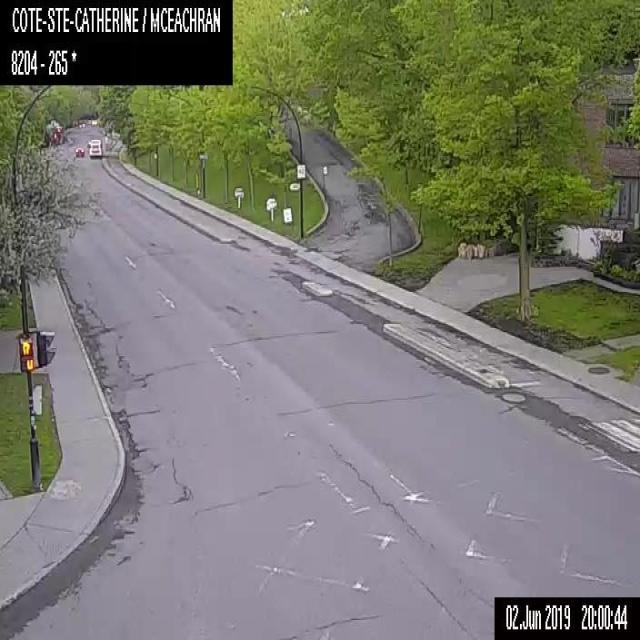bus: (86, 137, 102, 157)
vehicle: (75, 146, 84, 156), (90, 116, 98, 124), (78, 120, 85, 126)
